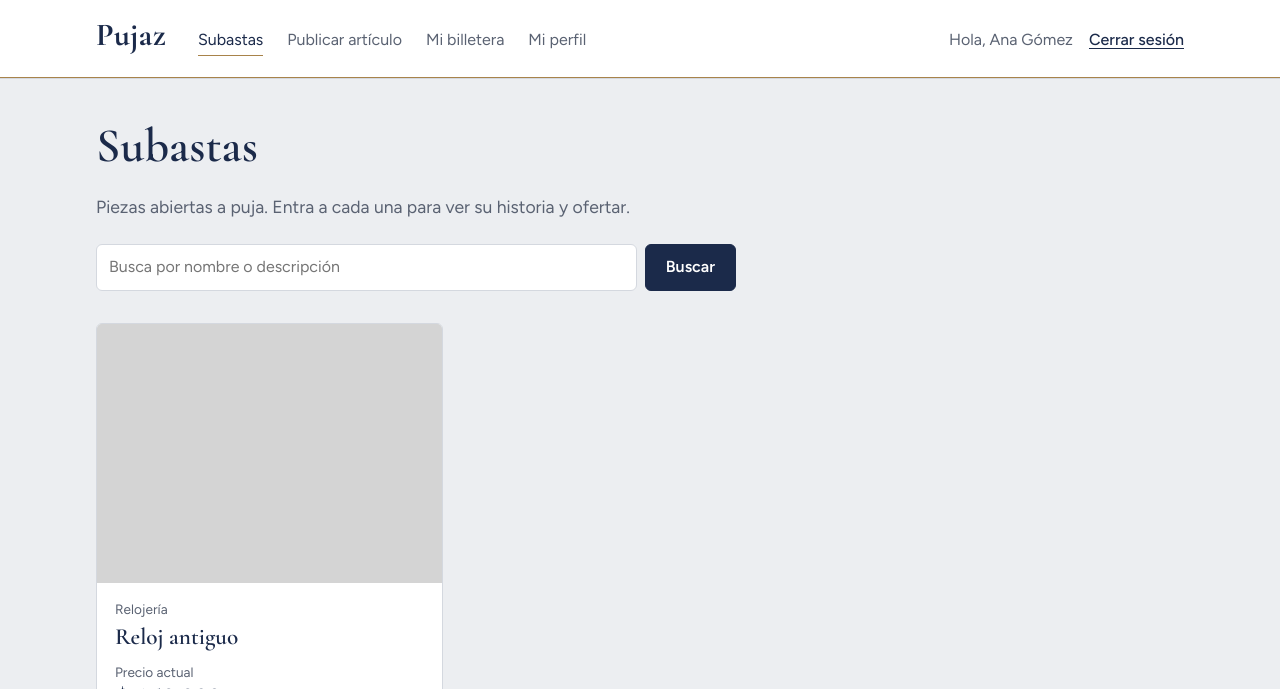
Test case: PublicarPage › muestra el artículo nuevo en el listado al volver, sin recargar
The width and height of the screenshot is (1280, 689).
Expected: the link "Reloj antiguo" is shown, [115,623,238,651]
Click the link "Publicar artículo" at x=345, y=42, box [287,28,402,56]
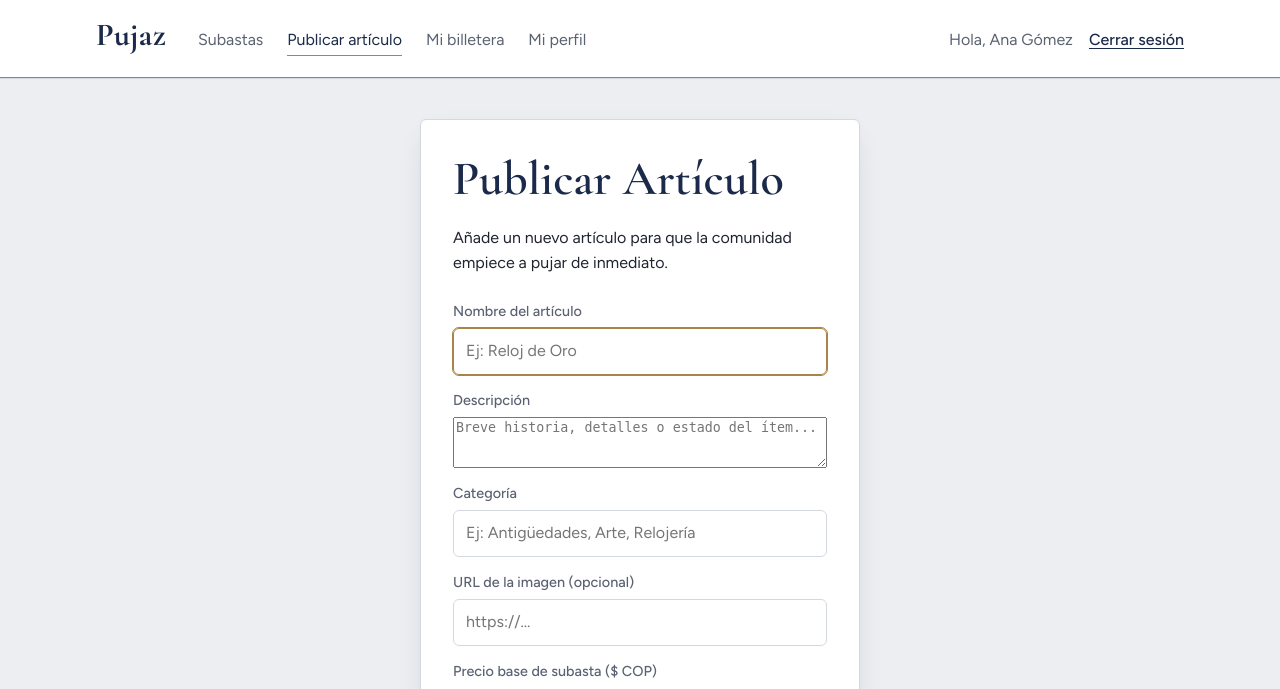
Type "Lámpara de bronce" into the field labelled "Nombre del artículo" at x=640, y=351, box [453,328,827,375]
(page scrolled)
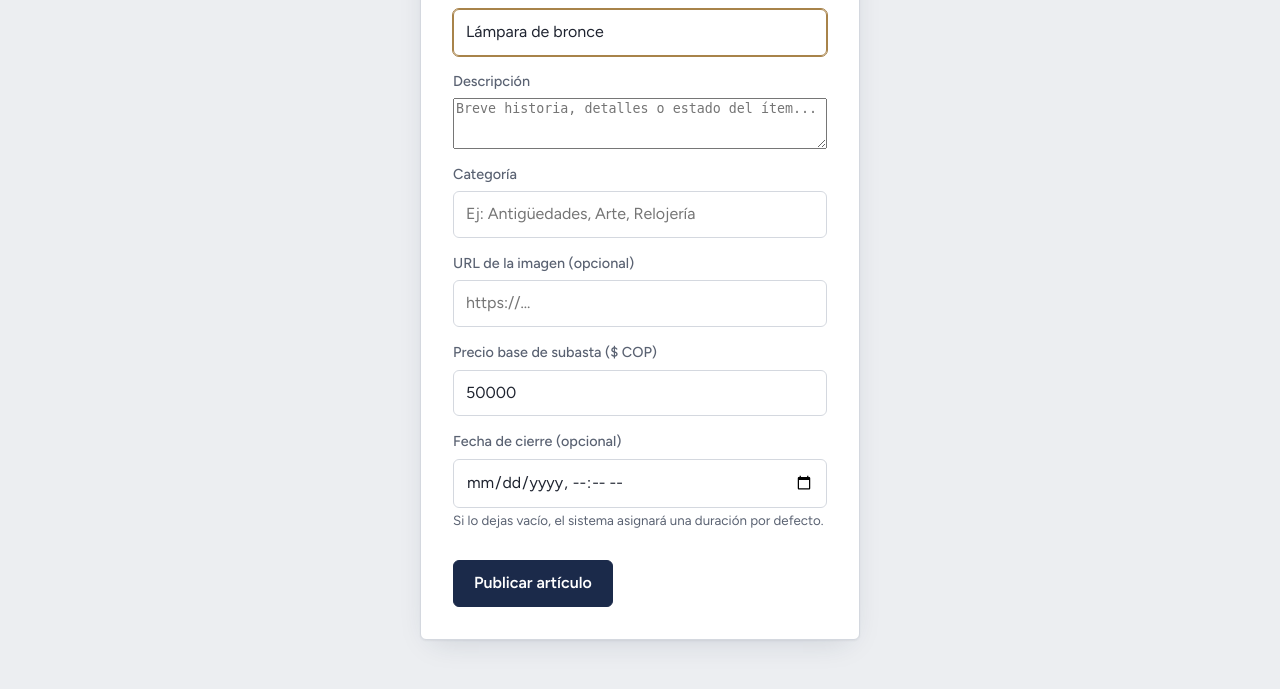
Replace the text in the number field labelled "Precio base de subasta ($ COP)" with "80000" at x=640, y=393, box [453,370,827,416]
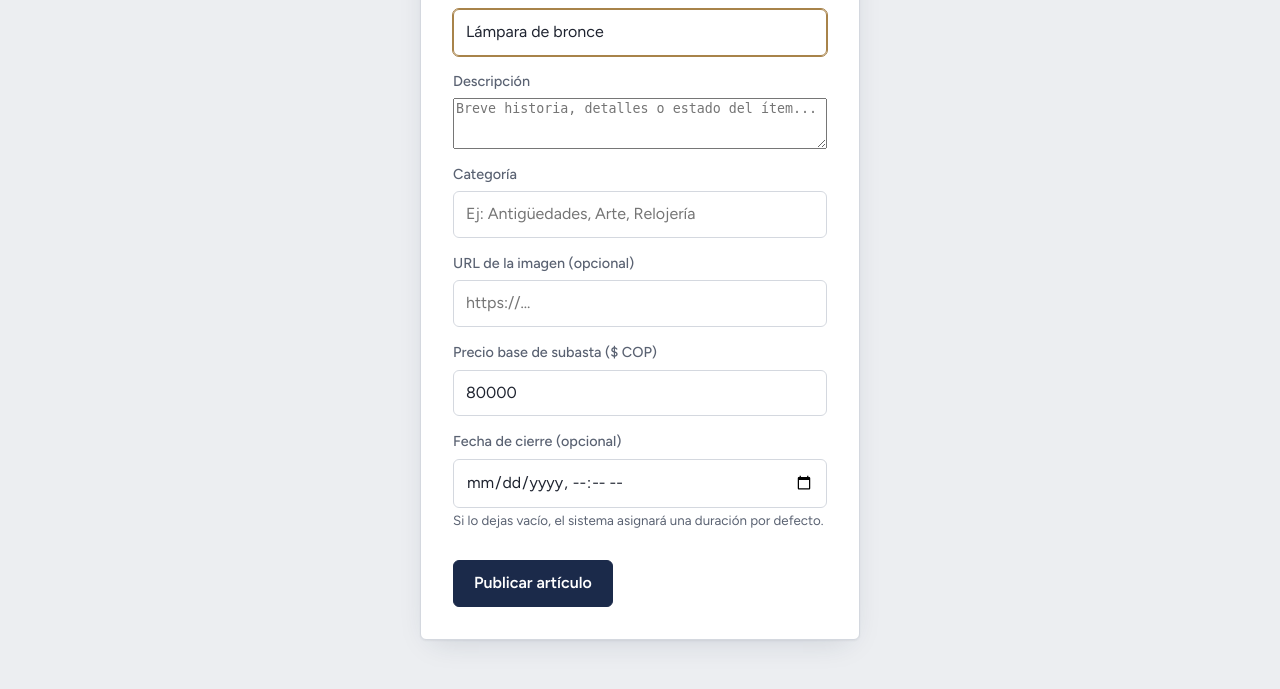
Click the button "Publicar artículo" at x=533, y=584, box [453,560,613,607]
(page scrolled)
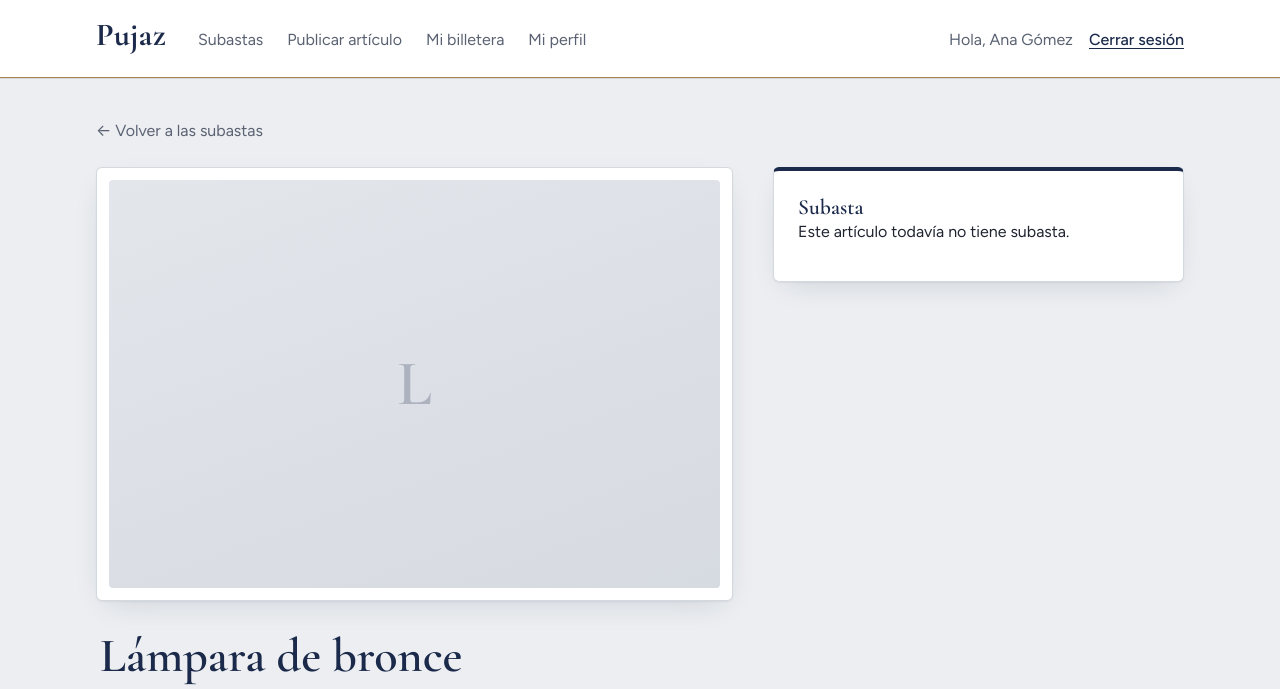
Expected: the heading "Lámpara de bronce" is shown, [100,627,462,685]
Click the link "Subastas" at x=231, y=42, box [198,28,263,56]
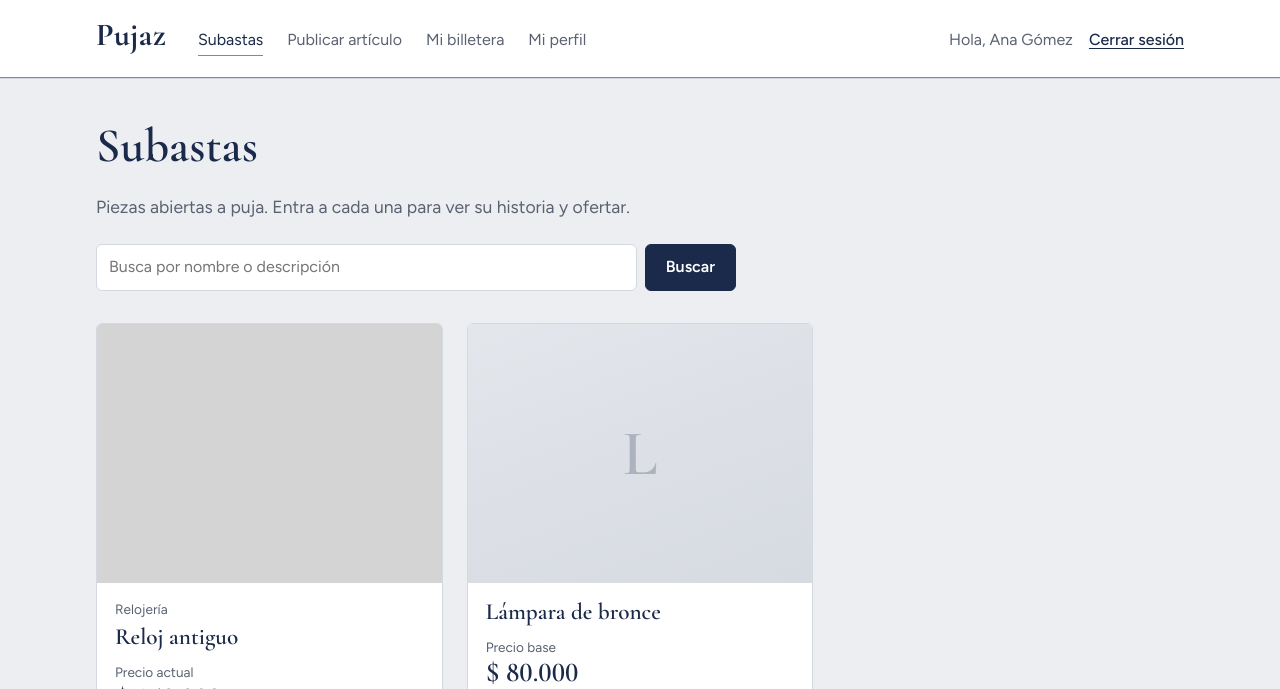
Expected: the link "Reloj antiguo" is shown, [115,623,238,651]
